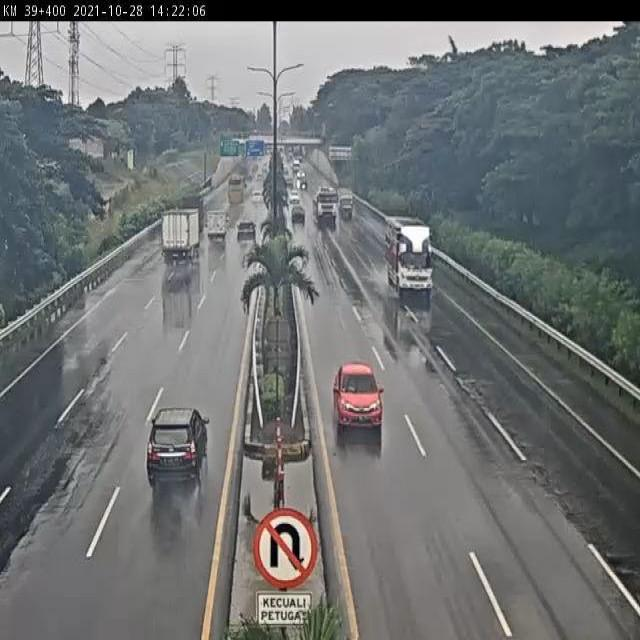car: (145, 407, 210, 480), (332, 359, 384, 428), (232, 216, 259, 248)
truck-l-: (377, 214, 434, 298)
truck-m-: (161, 208, 202, 261)
truck-s-: (205, 210, 230, 246)
